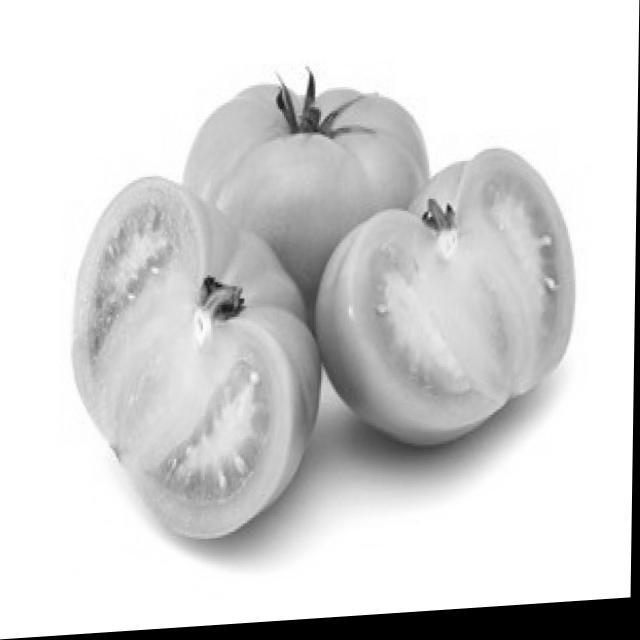yesil: (63, 59, 577, 554)
